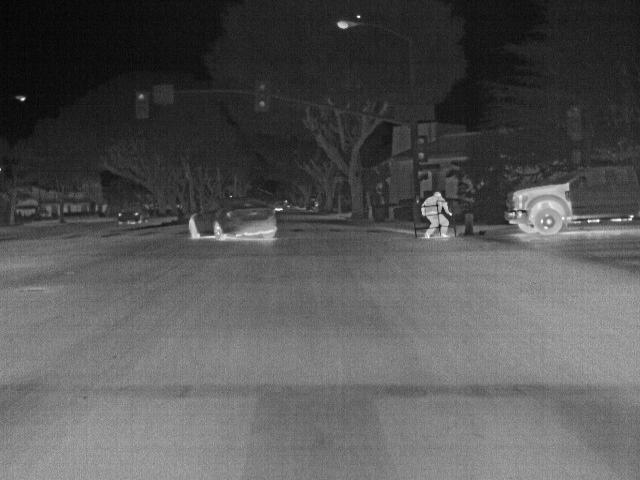car: (501, 163, 639, 237), (186, 199, 277, 241), (115, 205, 151, 226), (276, 200, 290, 212)
person: (422, 190, 449, 238)
